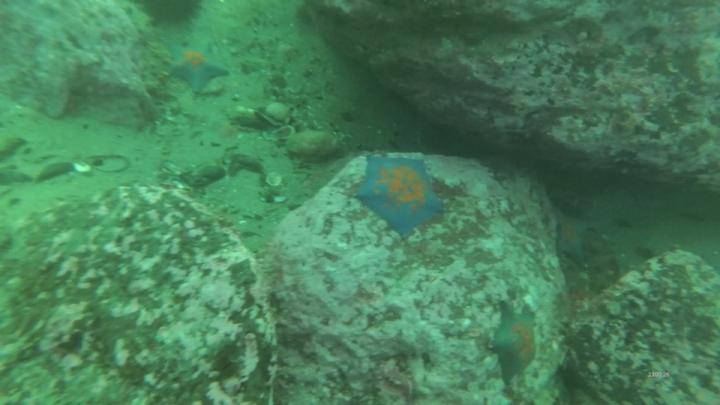echinus: (141, 2, 198, 24)
starfish: (356, 156, 443, 234), (494, 303, 538, 381), (167, 45, 230, 92), (557, 223, 587, 262)
